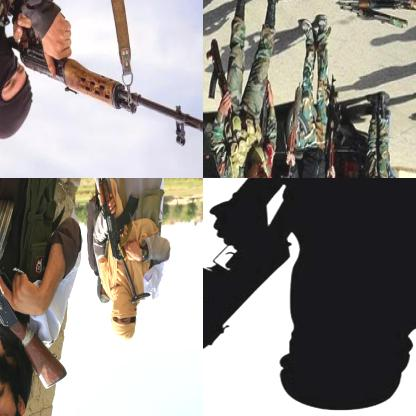rifle: (0, 17, 202, 150), (203, 199, 295, 415), (0, 178, 68, 391), (87, 178, 150, 305), (280, 83, 310, 177), (339, 4, 409, 32), (205, 38, 229, 106), (326, 74, 339, 177), (332, 0, 415, 12), (269, 0, 337, 8)
